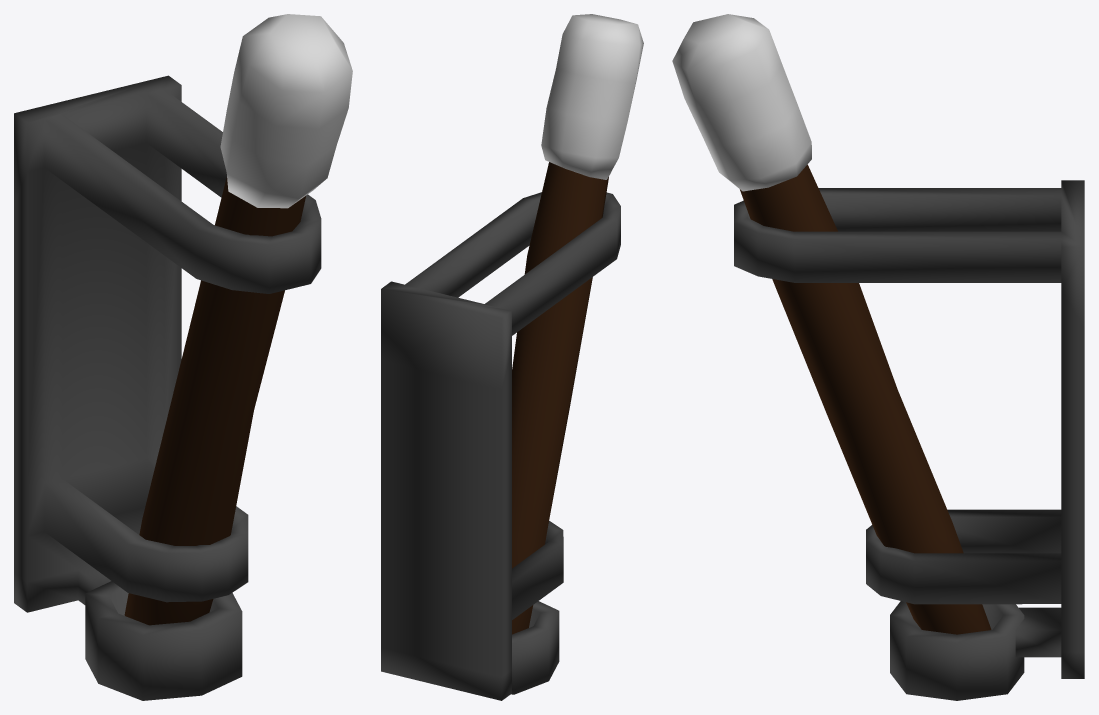
Rendered from TorchnSconce.fbx.
The picture shows the model from 3 angles, left to right: view 1: azimuth 30°, elevation 25°; view 2: azimuth 150°, elevation 25°; view 3: azimuth 270°, elevation 25°; orthographic projection. The views are drawn at different scales.
Parts seen in each view (by area): view 1: Cube.014; view 2: Cube.014; view 3: Cube.014.
Part boxes in pixels (x1,y1,x2,y2): Cube.014: [14, 14, 352, 700]; Cube.014: [381, 14, 643, 700]; Cube.014: [672, 14, 1084, 700].
Bounding box in the file's own units: 10.56 × 48.34 × 27.65.
